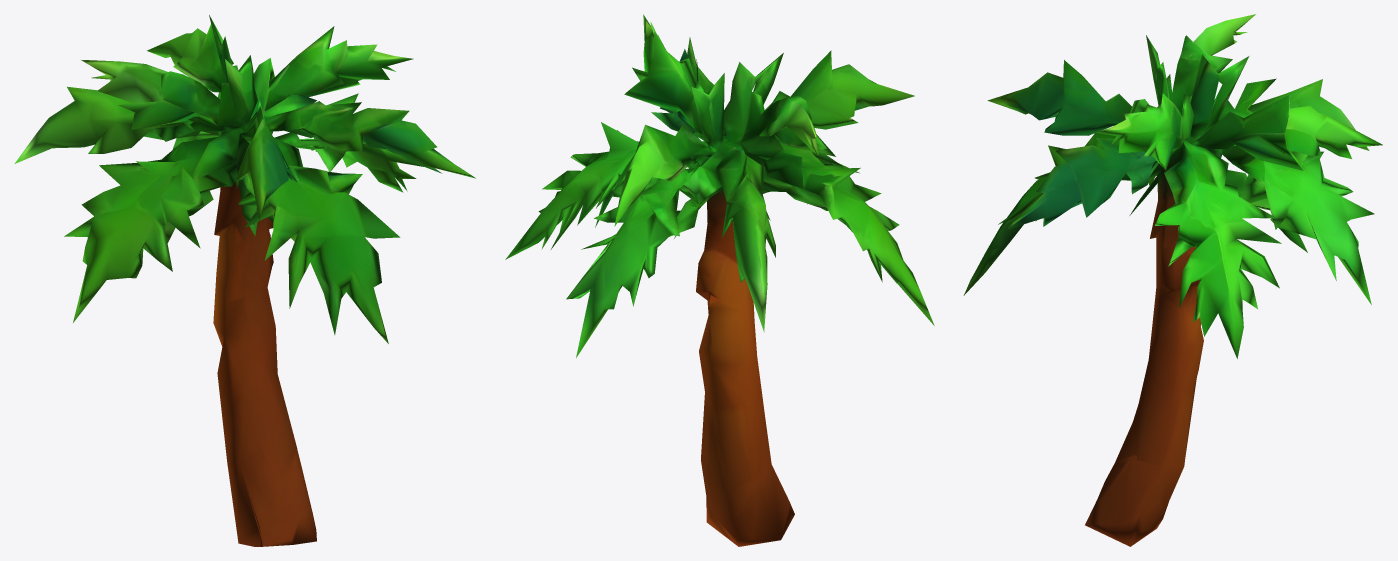
The model's file is palm.glb.
3 renders of one model, left to right at view 1: azimuth 30°, elevation 25°; view 2: azimuth 150°, elevation 25°; view 3: azimuth 270°, elevation 25°, orthographic. The views are drawn at different scales.
Visible parts, largest first — view 1: tripo_node_b761749c-8315-4a18-a62a-8c86a607fe68; view 2: tripo_node_b761749c-8315-4a18-a62a-8c86a607fe68; view 3: tripo_node_b761749c-8315-4a18-a62a-8c86a607fe68.
Boxes of the visible parts, <box> form: tripo_node_b761749c-8315-4a18-a62a-8c86a607fe68: <box>14,15,475,546</box>; tripo_node_b761749c-8315-4a18-a62a-8c86a607fe68: <box>505,14,934,546</box>; tripo_node_b761749c-8315-4a18-a62a-8c86a607fe68: <box>963,14,1382,546</box>.
Size of the model in its own units: 0.804 by 1 by 0.8003.
Materials: 1 (1 with a texture image).
